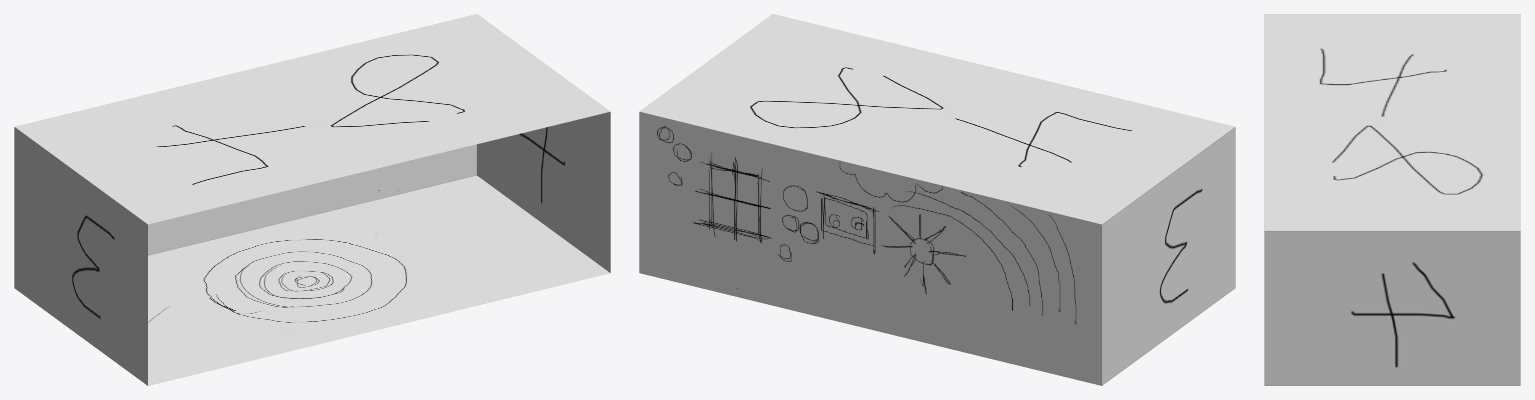
Rendered from Start.fbx.
The picture shows the model from 3 angles, left to right: view 1: azimuth 30°, elevation 25°; view 2: azimuth 150°, elevation 25°; view 3: azimuth 270°, elevation 25°; orthographic projection. The views are drawn at different scales.
Parts seen in each view (by area): view 1: rroom; view 2: rroom; view 3: rroom.
Part boxes in pixels (<box>): rroom: <box>14,14,610,385</box>; rroom: <box>639,14,1235,385</box>; rroom: <box>1264,14,1520,385</box>.
Size of the model in its own units: 600 by 200 by 300.
